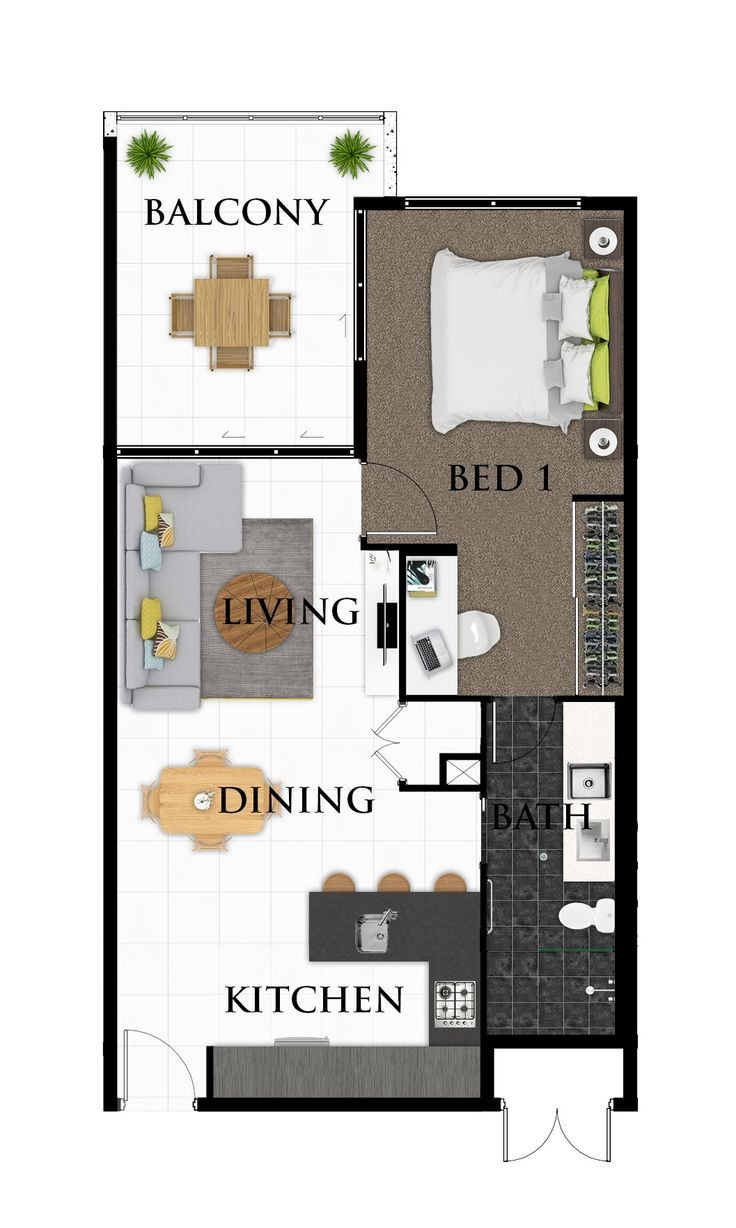door: (503, 1090, 614, 1169), (371, 458, 448, 551), (123, 1027, 202, 1098), (381, 708, 400, 782)
room: (370, 215, 601, 677), (123, 463, 393, 740), (114, 898, 475, 1059), (128, 745, 444, 895), (493, 716, 619, 1028)
wall: (101, 124, 120, 1093), (606, 193, 637, 494), (194, 1092, 507, 1116), (623, 701, 640, 1108), (489, 1032, 637, 1051), (480, 888, 493, 1099), (627, 498, 640, 676), (392, 550, 407, 703), (406, 689, 497, 708), (363, 536, 457, 554), (350, 360, 367, 458), (401, 781, 487, 794), (357, 194, 405, 211), (439, 749, 484, 763), (437, 756, 453, 788)
window: (120, 110, 385, 130), (137, 443, 314, 467), (413, 195, 583, 215), (352, 212, 370, 351)
